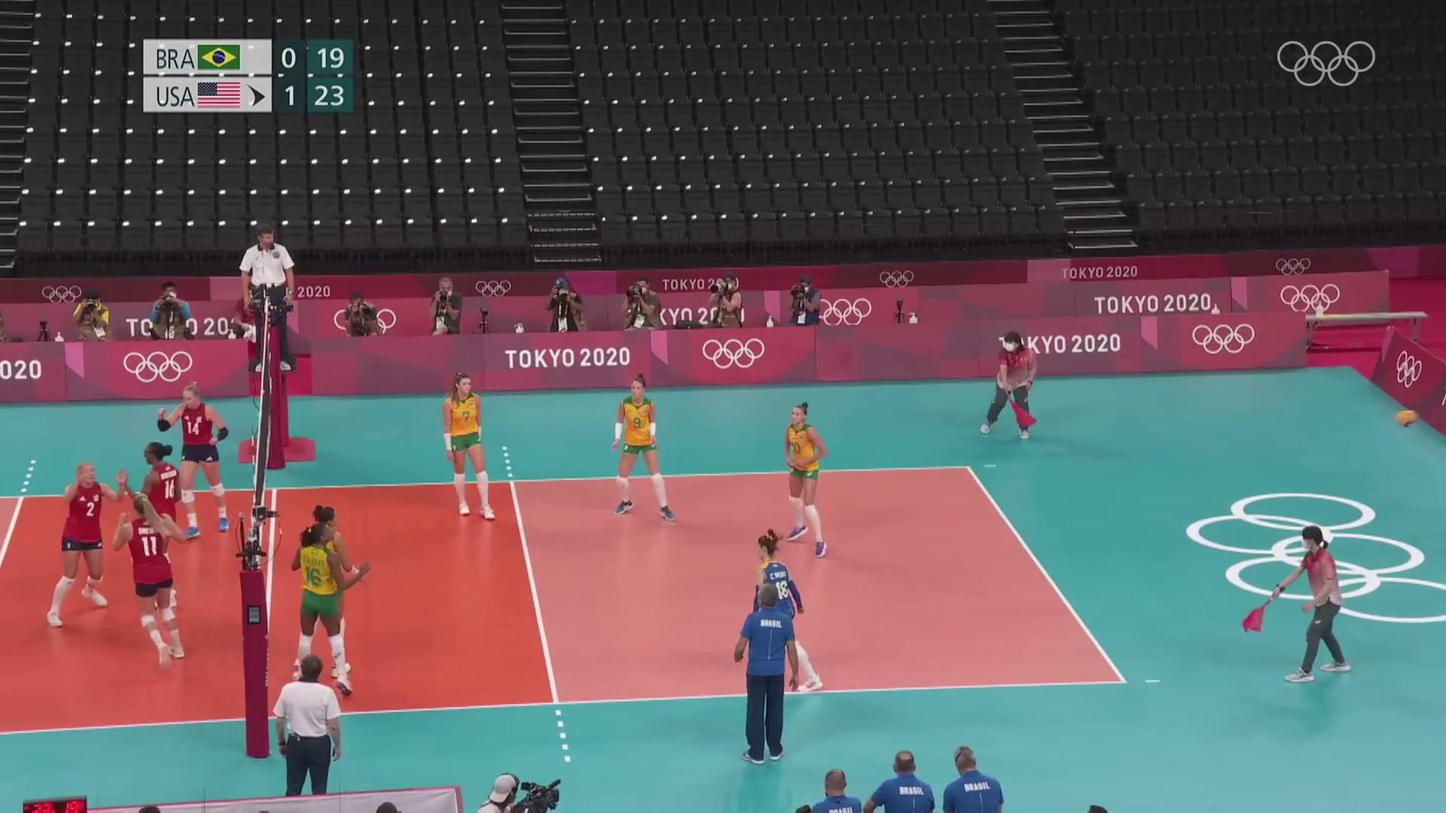player: (296, 502, 370, 678), (114, 493, 186, 673), (152, 387, 235, 540), (44, 458, 119, 627), (749, 528, 821, 694), (294, 525, 356, 696), (606, 376, 678, 522), (129, 441, 184, 608), (442, 372, 502, 521), (777, 403, 833, 555)
refree: (1260, 523, 1366, 682), (269, 659, 357, 795), (239, 225, 297, 370), (983, 329, 1046, 440)
